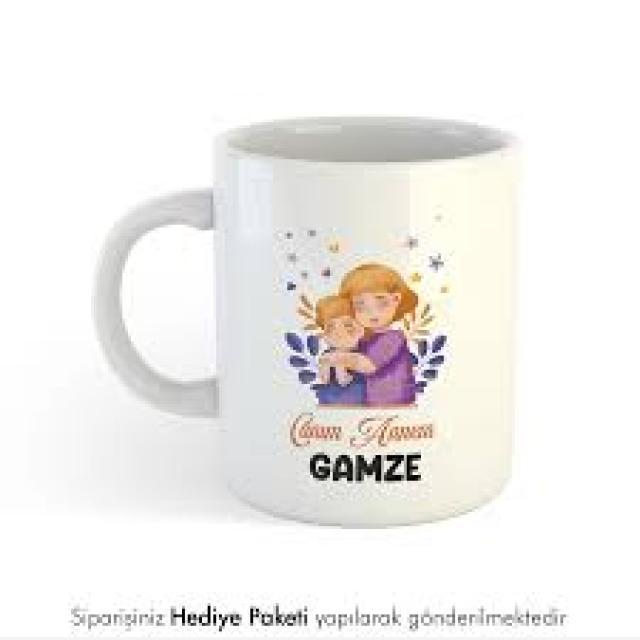taza: (89, 114, 523, 530)
